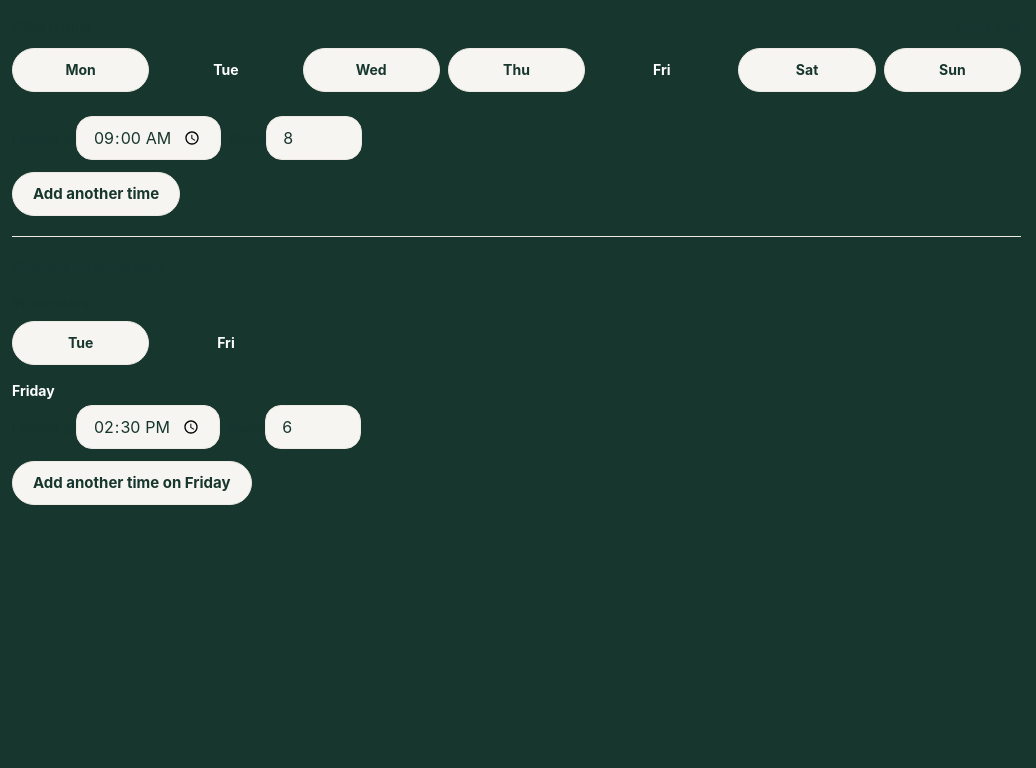
what would be refused, held back before it is sent › asks for a time, and says why Save waits
Click the button "Add another time" at (96, 194), box [12,172,180,216]
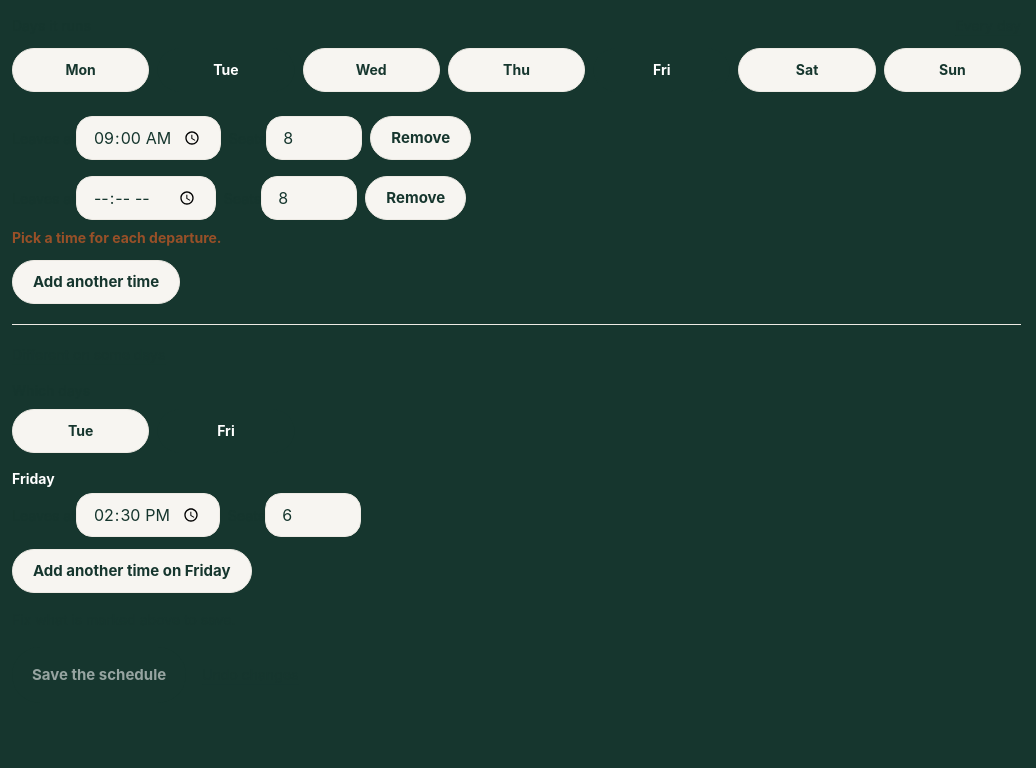
Result: the text "Pick a time for each departure." is shown at [12,229,222,246]
Result: the button "Save the schedule" is disabled at [12,647,186,703]
